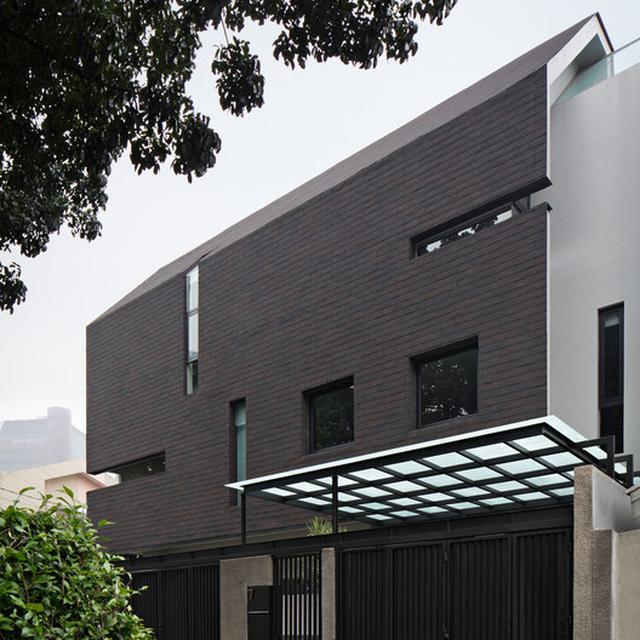building: (80, 17, 640, 640)
